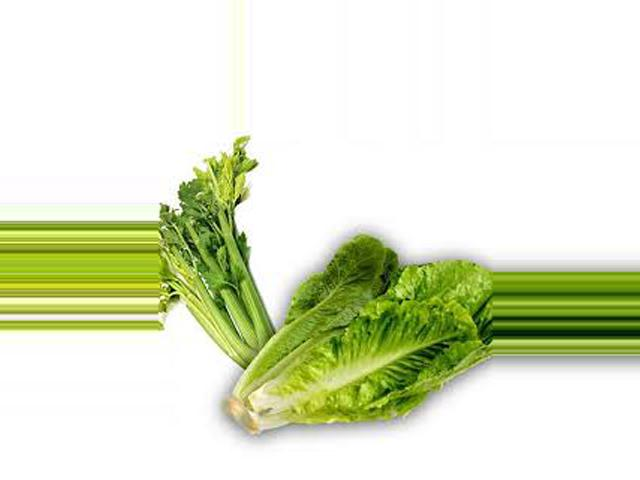lettuce: (209, 212, 494, 423)
